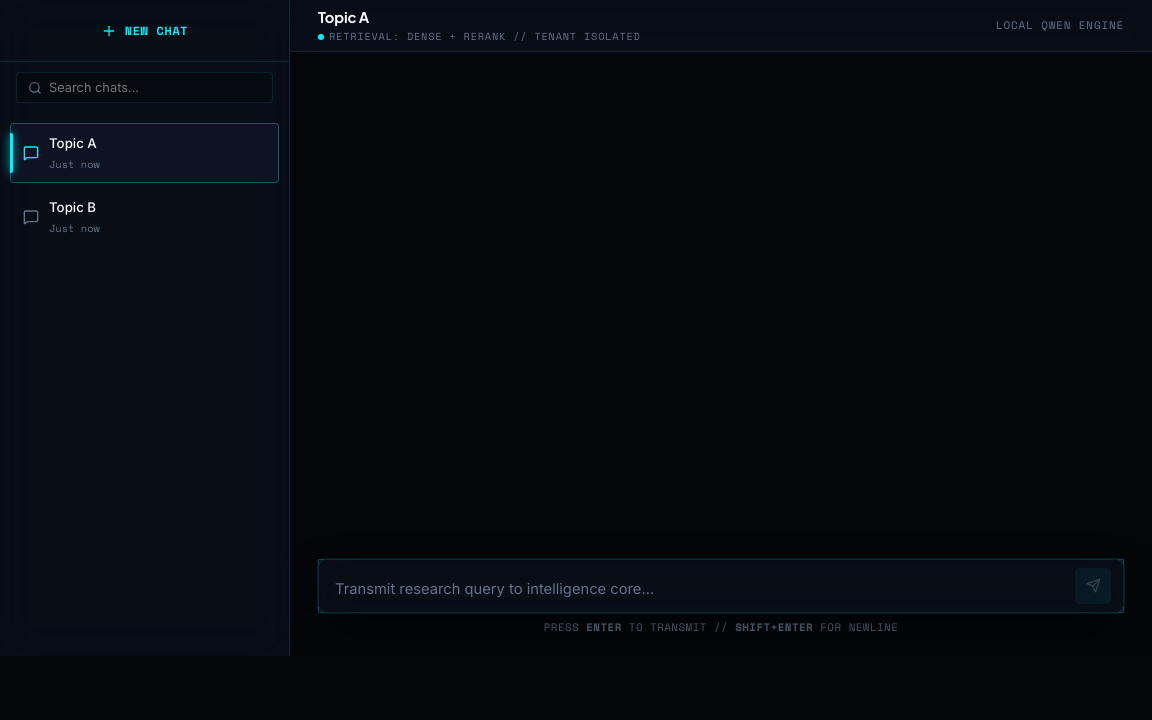
Test case: Phase 10 — Chat UI & Conversation Experience Tests › 20. switches conversation and renders respective message history
Expected: the text "Message inside Topic B" is not shown
Note: Switch to Topic B
Click the text "Topic B" at point(74, 208), box x1=49 y1=197 x2=100 y2=218
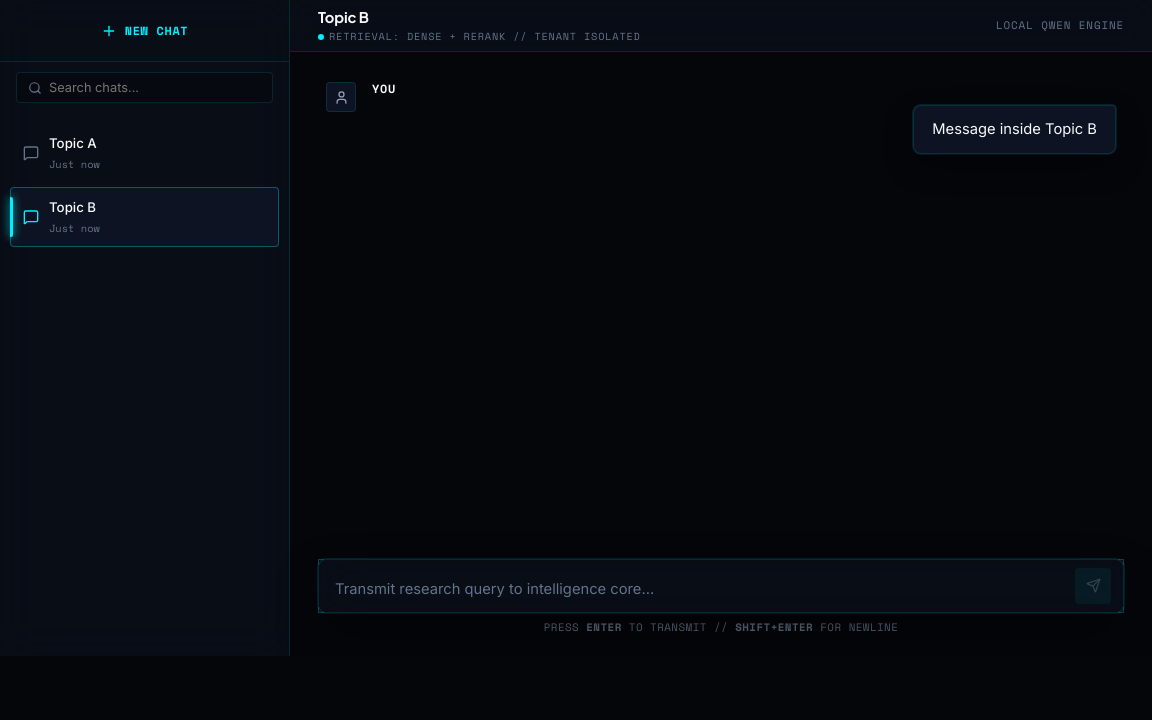
Expected: the text "Message inside Topic B" is shown, x1=932 y1=118 x2=1097 y2=141
